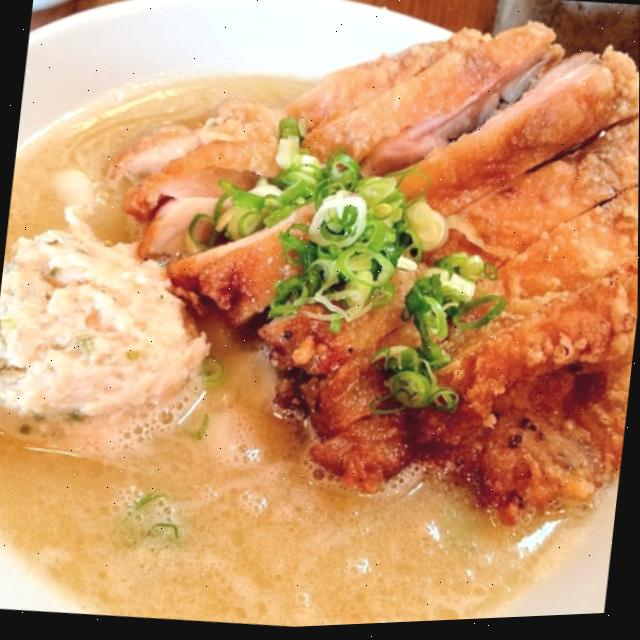鸡肉料理 含炸鸡: (64, 0, 640, 536)
